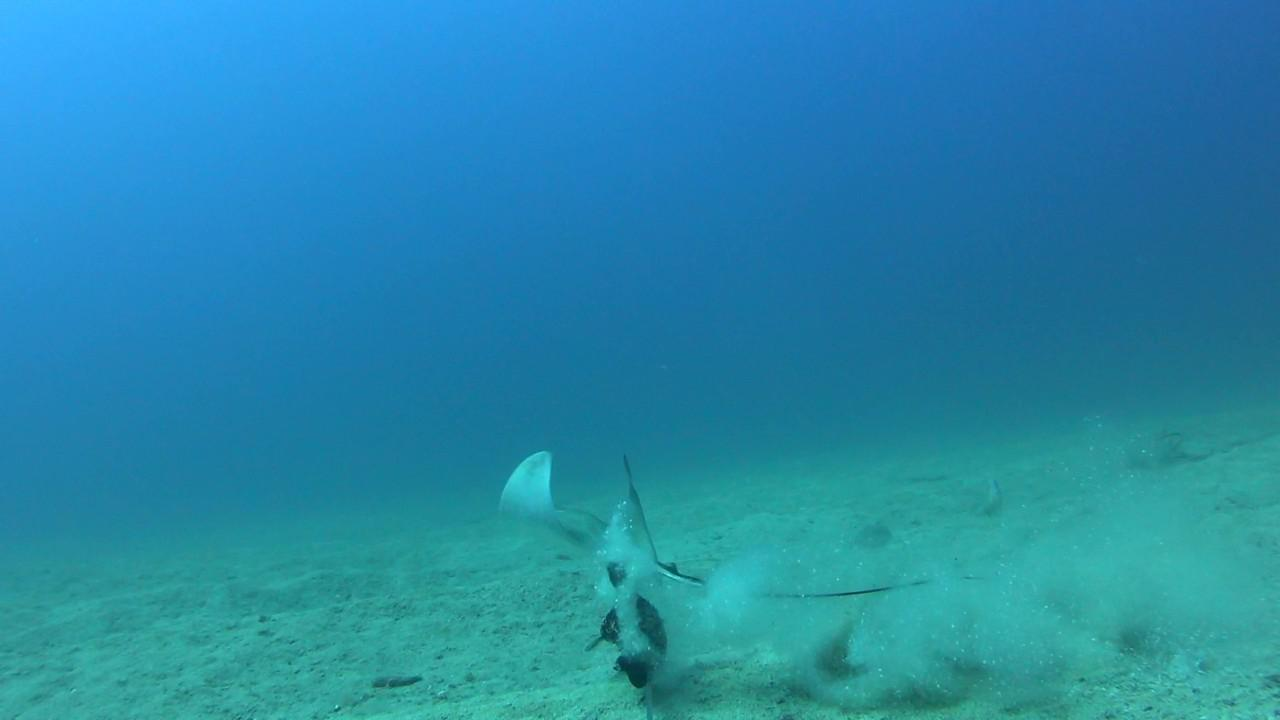myliobatis: (487, 432, 1021, 612)
